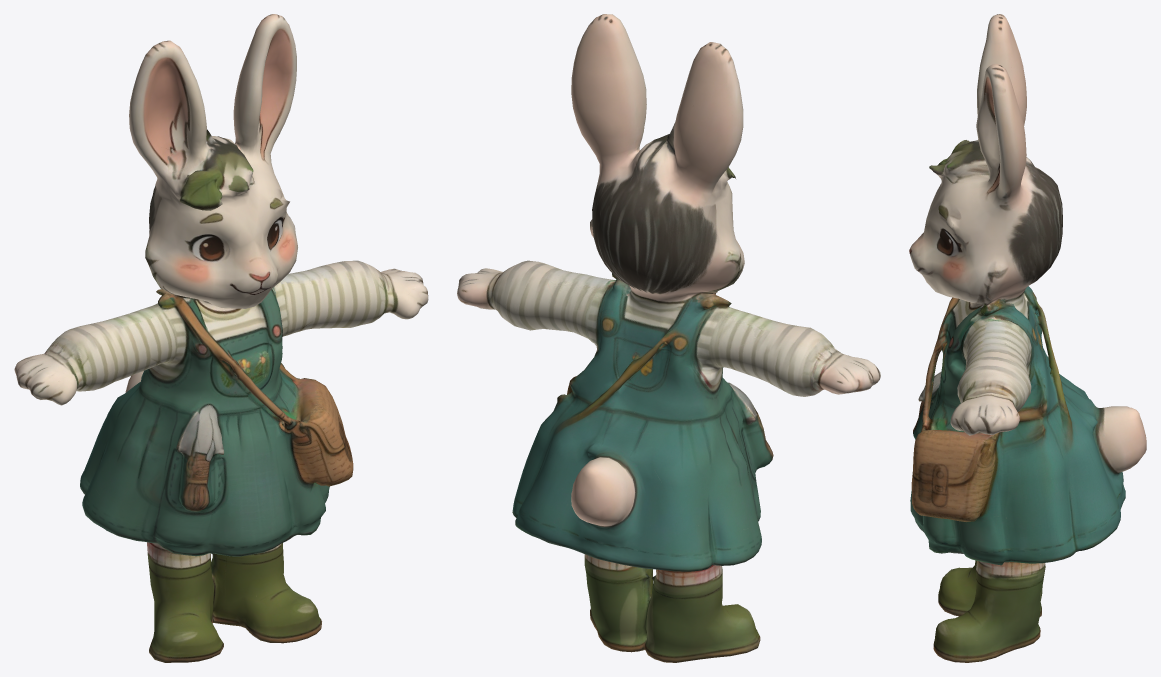
Rendered from Meshy_AI_Bunny_Gardener_0504014358_texture.fbx.
3 renders of one model, left to right at view 1: azimuth 30°, elevation 25°; view 2: azimuth 150°, elevation 25°; view 3: azimuth 270°, elevation 25°, orthographic. The views are drawn at different scales.
Parts seen in each view (by area): view 1: obj1; view 2: obj1; view 3: obj1.
Boxes of the visible parts, bbox=[...] form: obj1: bbox=[14, 14, 428, 662]; obj1: bbox=[457, 14, 880, 662]; obj1: bbox=[909, 14, 1146, 662].
Size of the model in its own units: 141 by 200 by 73.38.
Materials: 1 (1 with a texture image).
